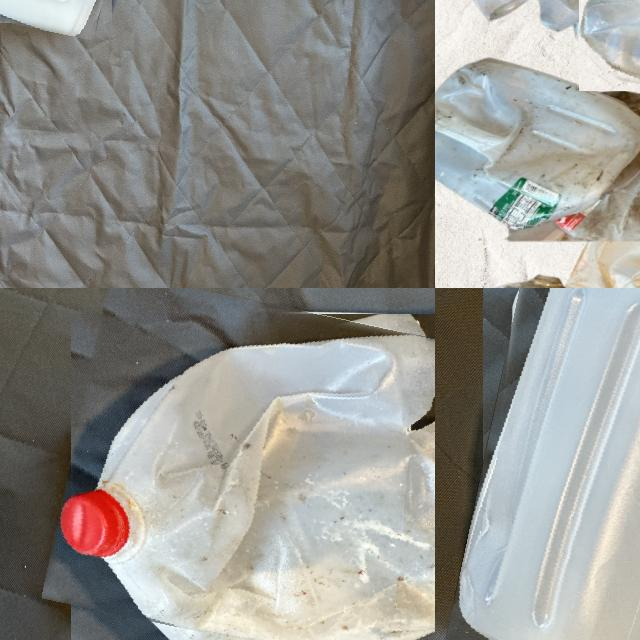milk-jug: (55, 291, 435, 640), (460, 288, 640, 640), (435, 60, 634, 209), (548, 99, 640, 243), (573, 0, 640, 100), (543, 224, 640, 288)
